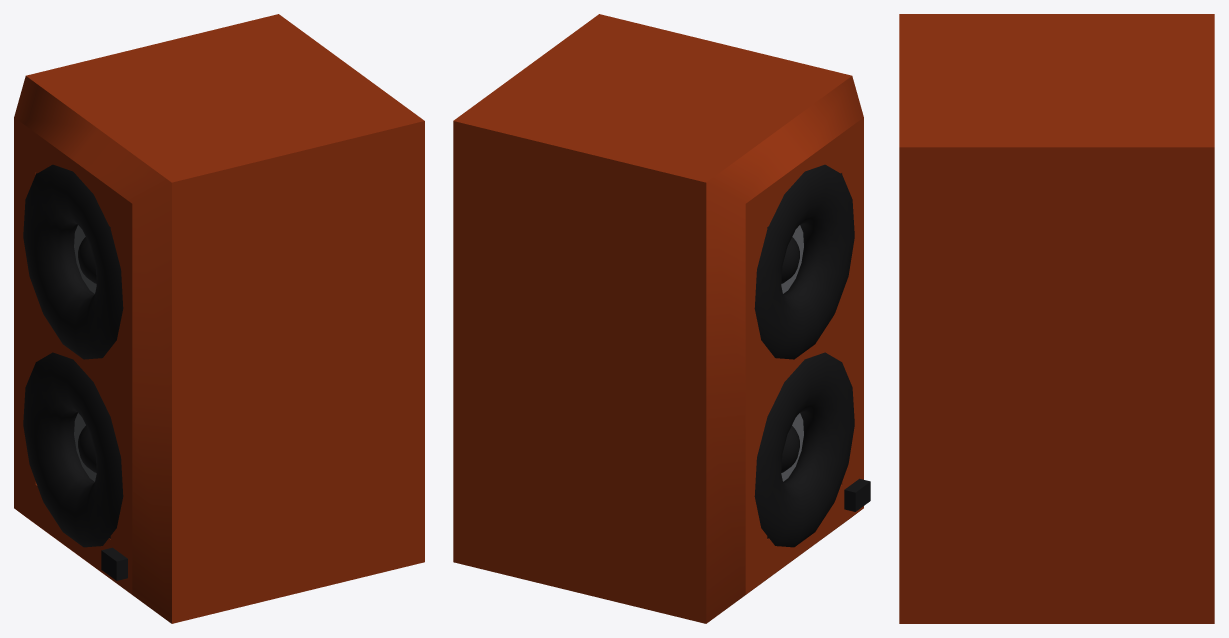
File: Speaker_Mesh_001.fbx
The picture shows the model from 3 angles, left to right: view 1: azimuth 30°, elevation 25°; view 2: azimuth 150°, elevation 25°; view 3: azimuth 270°, elevation 25°; orthographic projection. The views are drawn at different scales.
Visible parts, largest first — view 1: Speaker_Mesh_001; view 2: Speaker_Mesh_001; view 3: Speaker_Mesh_001.
Boxes of the visible parts, bbox=[...] form: Speaker_Mesh_001: bbox=[14, 14, 424, 623]; Speaker_Mesh_001: bbox=[453, 14, 870, 623]; Speaker_Mesh_001: bbox=[899, 14, 1214, 623].
Bounding box in the file's own units: 68.74 × 100 × 60.
